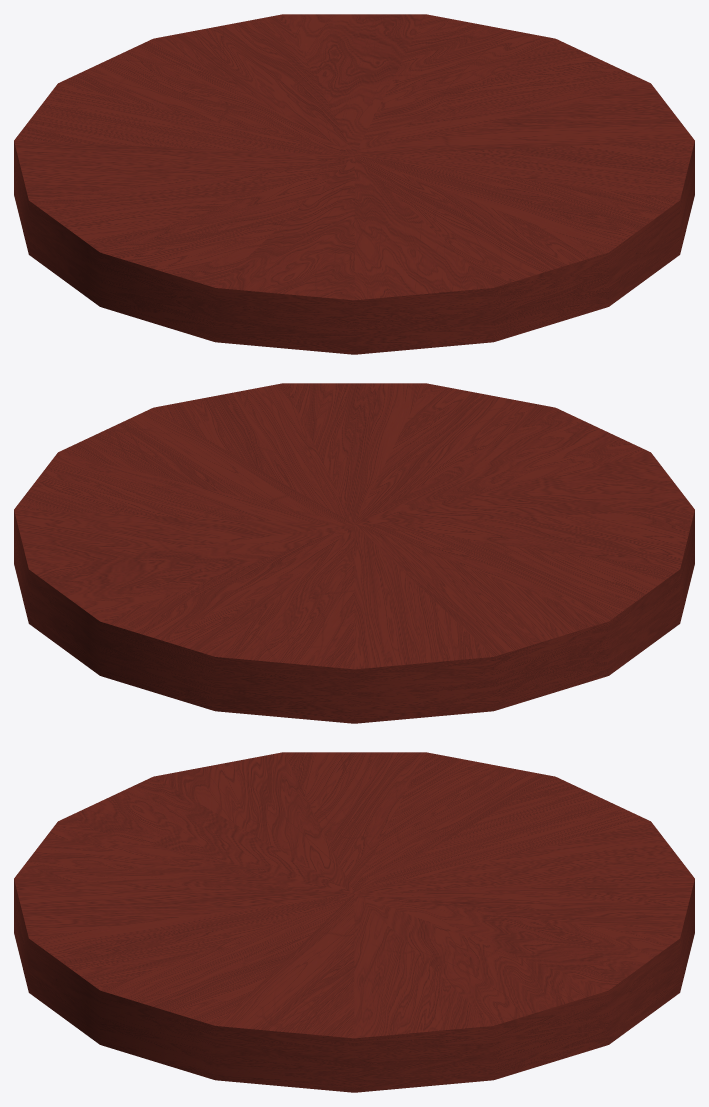
3 views of the same model, one above another, from view 1: azimuth 30°, elevation 25°; view 2: azimuth 150°, elevation 25°; view 3: azimuth 270°, elevation 25° (orthographic).
Visible parts, largest first — view 1: 000_Cylinder_2.001; view 2: 000_Cylinder_2.001; view 3: 000_Cylinder_2.001.
Part boxes in pixels (bbox=[...]): 000_Cylinder_2.001: bbox=[14, 14, 694, 354]; 000_Cylinder_2.001: bbox=[14, 383, 694, 723]; 000_Cylinder_2.001: bbox=[14, 752, 694, 1092].
Bounding box in the file's own units: 168 × 14.9 × 169.
Materials: 1 (1 with a texture image).
